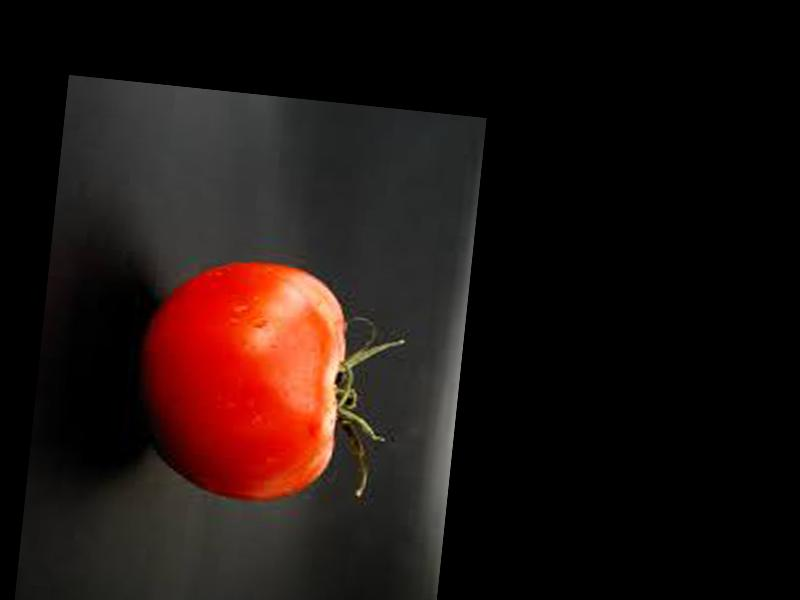Tomato: (129, 249, 352, 506)
